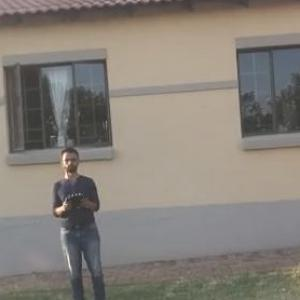follow: (48, 138, 115, 299)
